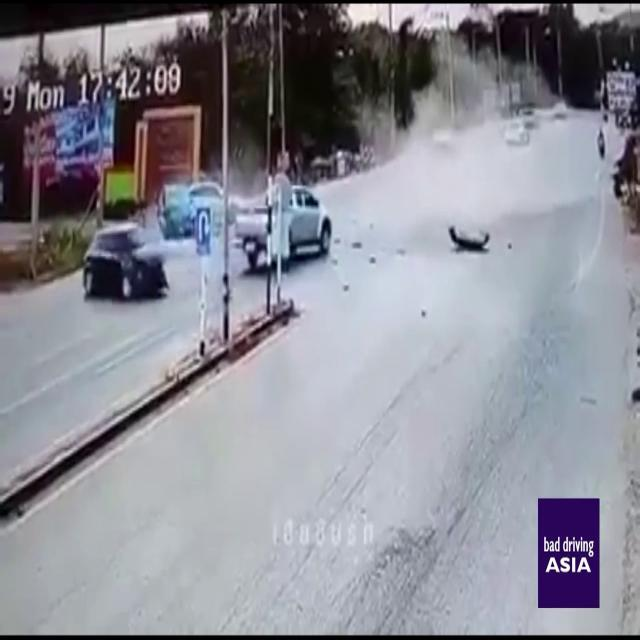multiple_accident: (66, 165, 336, 311)
